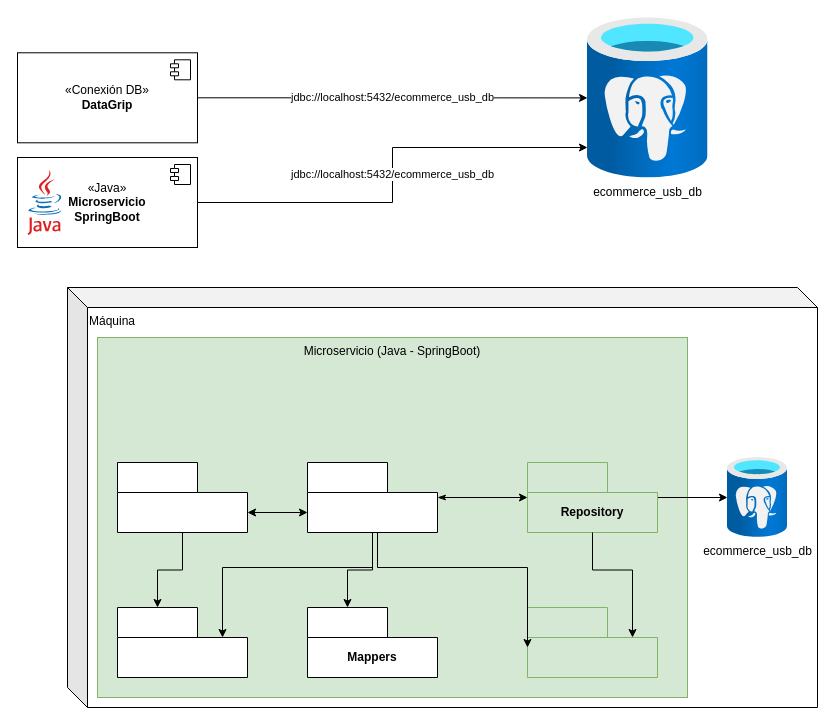
Image size: 835x725. Some labels were removed from this diagram. The centre of each missing label's shape, as x and y in pixels:
"Controllers (Endpoints)" belongs at point 182,497.
"DTO" belongs at point 182,642.
"Model (Domain)" belongs at point 592,642.
"Services (Logic)" belongs at point 372,497.
